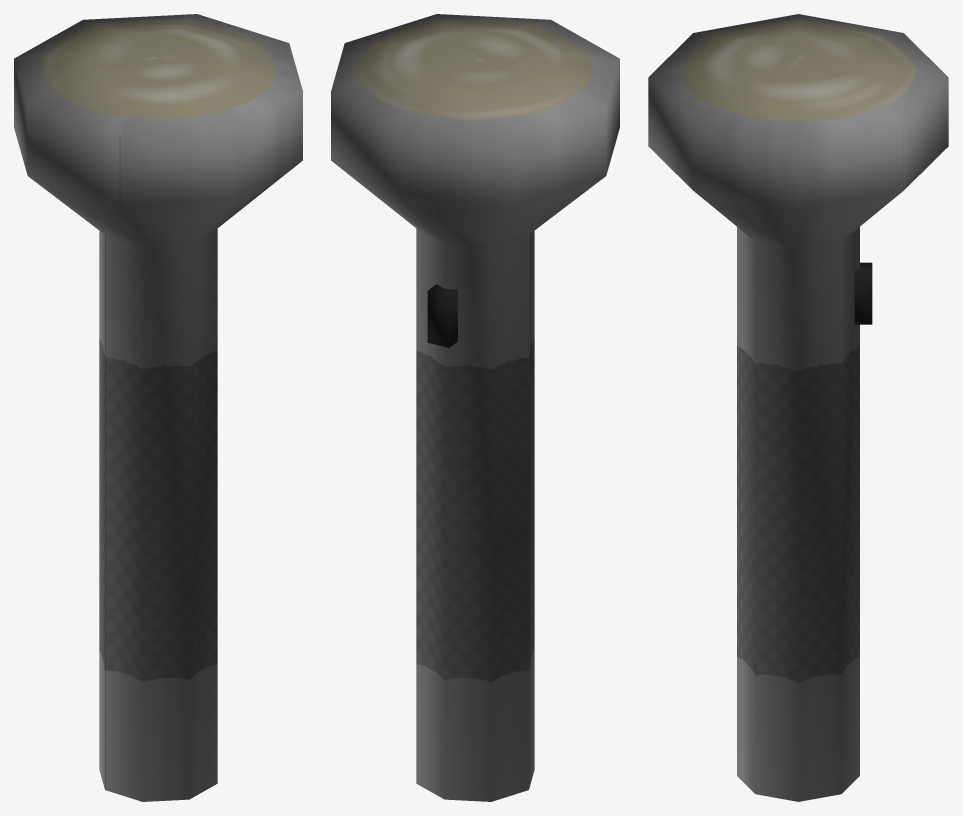
Rendered from flashlight.fbx.
3 renders of one model, left to right at view 1: azimuth 30°, elevation 25°; view 2: azimuth 150°, elevation 25°; view 3: azimuth 270°, elevation 25°, orthographic.
Parts seen in each view (by area): view 1: flashlifght.bak; view 2: flashlifght.bak; view 3: flashlifght.bak.
Boxes of the visible parts, x1,y1,x2,y2 form: flashlifght.bak: [14, 14, 302, 801]; flashlifght.bak: [331, 14, 619, 801]; flashlifght.bak: [648, 14, 948, 801].
Size of the model in its own units: 156 by 409 by 156.
Materials: 1 (1 with a texture image).
